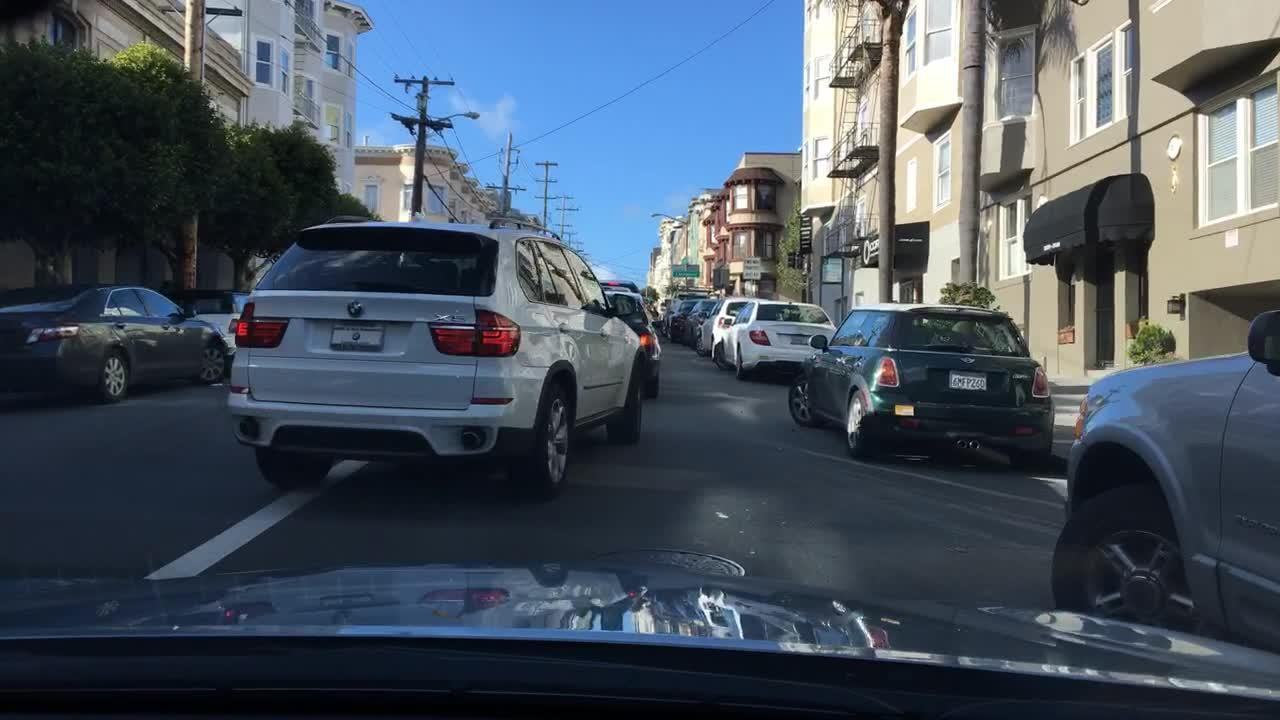bmw: (339, 297, 364, 319)
